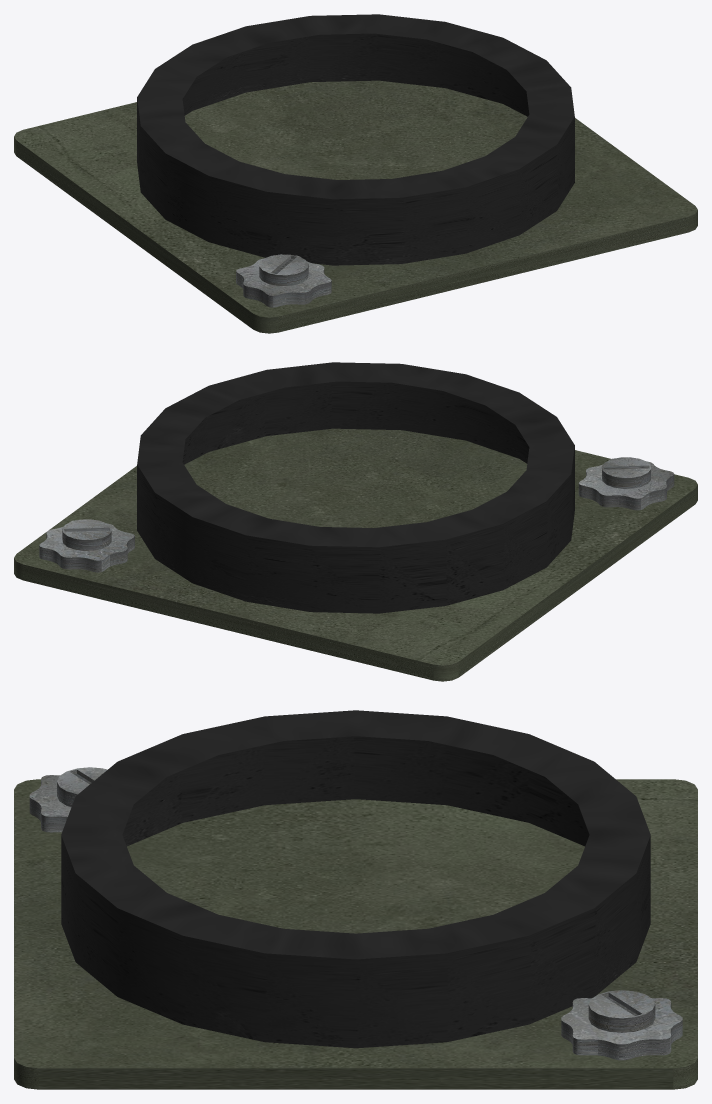
File: F_Button_Frame_01.fbx
3 renders of one model, top to bottom at view 1: azimuth 30°, elevation 25°; view 2: azimuth 150°, elevation 25°; view 3: azimuth 270°, elevation 25°, orthographic. The views are drawn at different scales.
Parts seen in each view (by area): view 1: F_Button_Frame_01; view 2: F_Button_Frame_01; view 3: F_Button_Frame_01.
Part boxes in pixels (box(x1,y1,x2,y2)): F_Button_Frame_01: box(14, 14, 697, 333); F_Button_Frame_01: box(14, 362, 697, 681); F_Button_Frame_01: box(14, 710, 697, 1089).
Size of the model in its own units: 49.95 by 8.88 by 49.95.
1 material, 1 textured.
